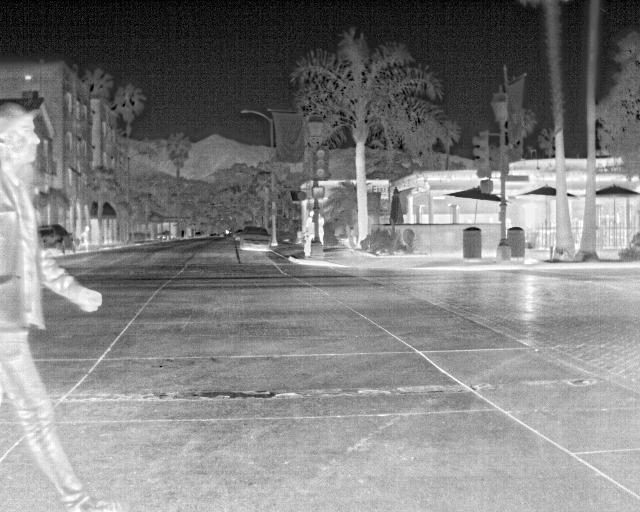bicycle: (38, 223, 78, 257), (237, 225, 271, 251)
empty: (0, 100, 109, 510), (80, 223, 92, 252)
